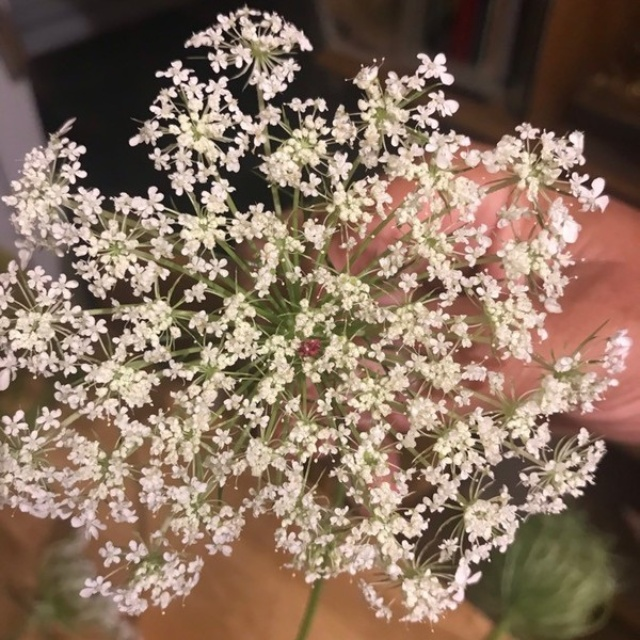obstacle: (0, 47, 542, 591)
